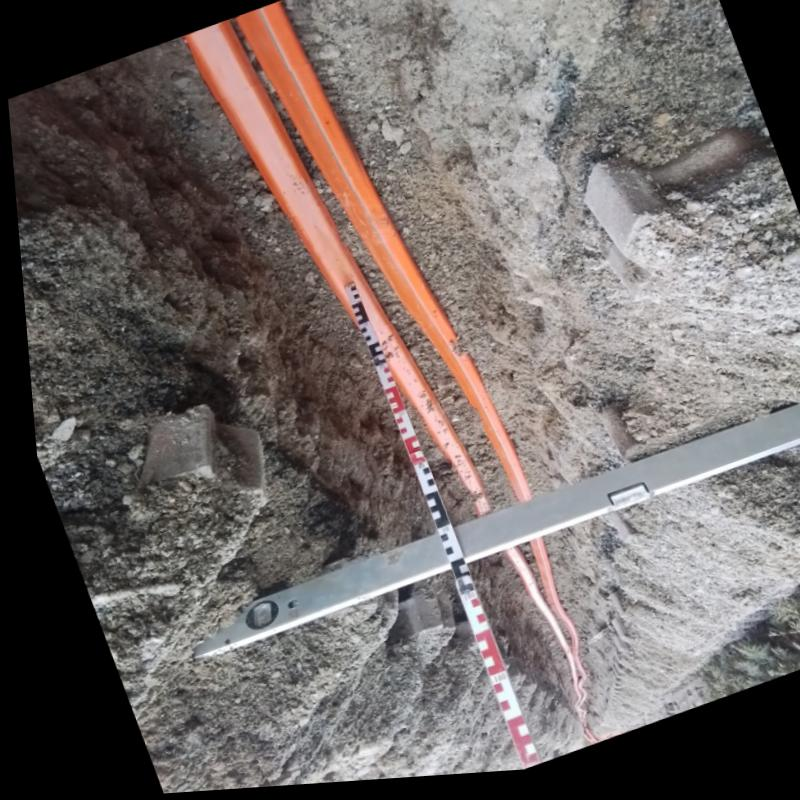Orang-Speednetrohrchen: (184, 22, 481, 514), (241, 3, 517, 497)
